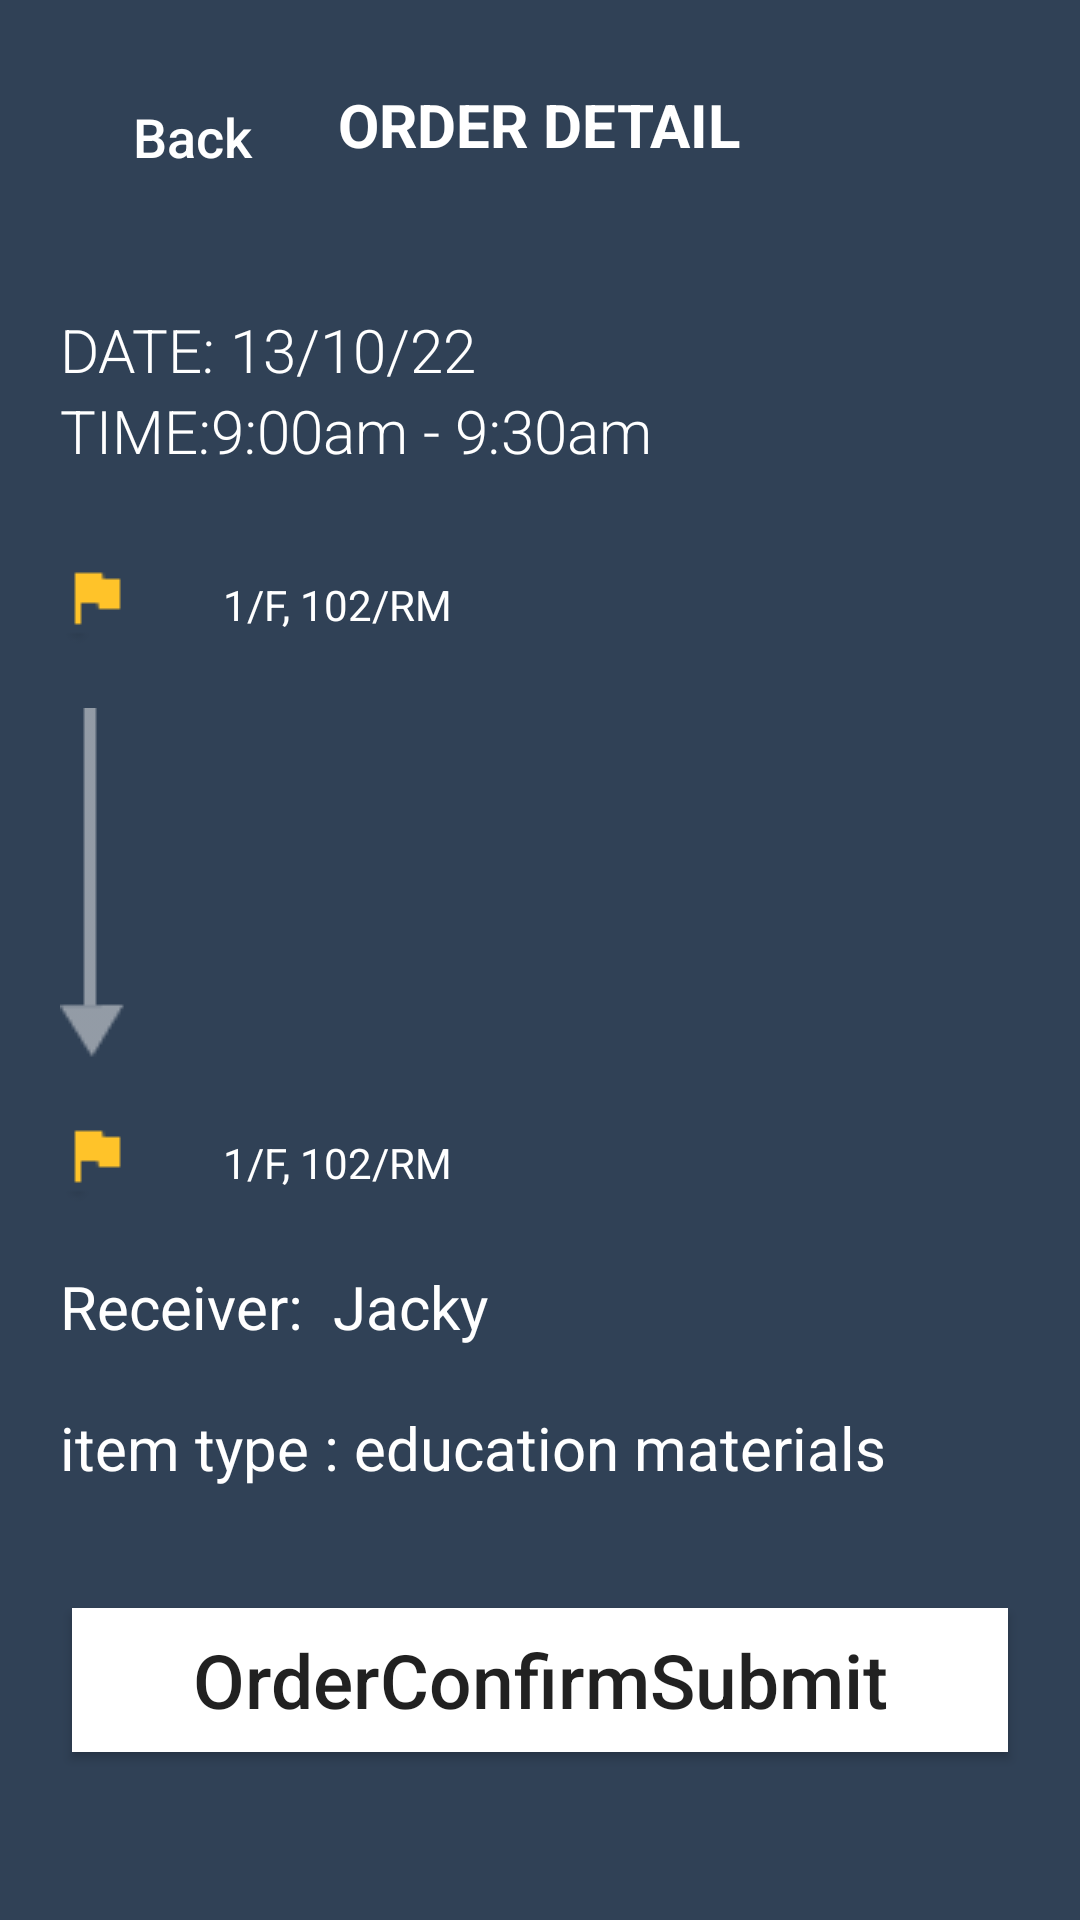

Screen size 1080 × 1920. Icon name, then its box in pixels as (x1, y1, x2, y2):
down arrow style two: (60, 708, 124, 1056)
flag: (74, 572, 121, 625), (74, 1130, 121, 1183)
